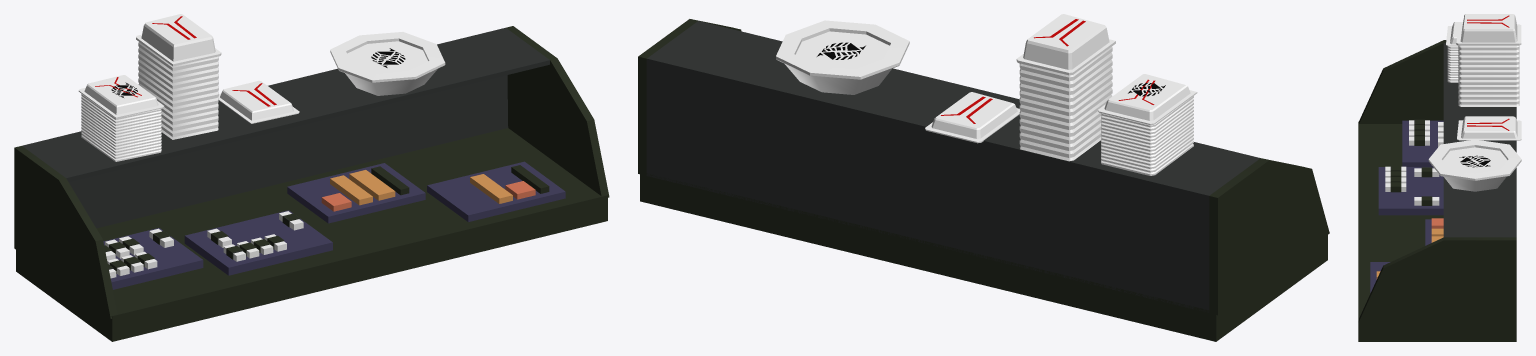
File: Sushi_Display.glb
3 renders of one model, left to right at view 1: azimuth 30°, elevation 25°; view 2: azimuth 150°, elevation 25°; view 3: azimuth 270°, elevation 25°, orthographic. The views are drawn at different scales.
Parts seen in each view (by area): view 1: sushi_bar_showcase_geo; view 2: sushi_bar_showcase_geo; view 3: sushi_bar_showcase_geo.
Boxes of the visible parts, left/top/right/bottom form: sushi_bar_showcase_geo: left=14, top=14, right=609, bottom=341; sushi_bar_showcase_geo: left=638, top=14, right=1329, bottom=341; sushi_bar_showcase_geo: left=1358, top=14, right=1521, bottom=341.
Size of what is drawn, in the model's own units: 1.47 by 0.6167 by 0.5074.
1 material, 1 textured.
